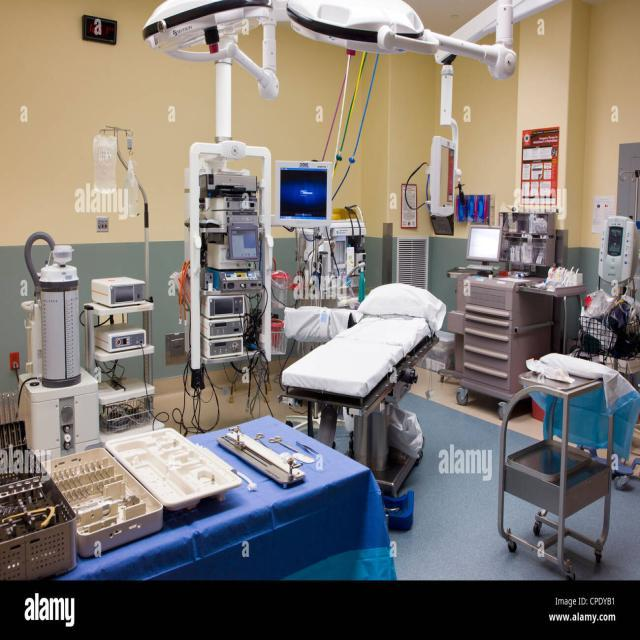Monitor: (276, 153, 342, 239)
bed: (288, 284, 448, 538)
stool: (75, 113, 182, 404)
tools_table: (0, 400, 387, 639), (490, 346, 638, 590)
